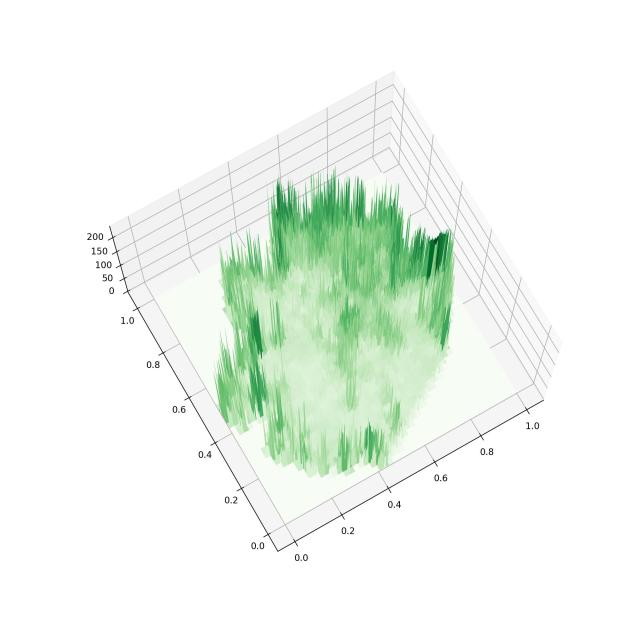fir: (44, 51, 589, 576)
